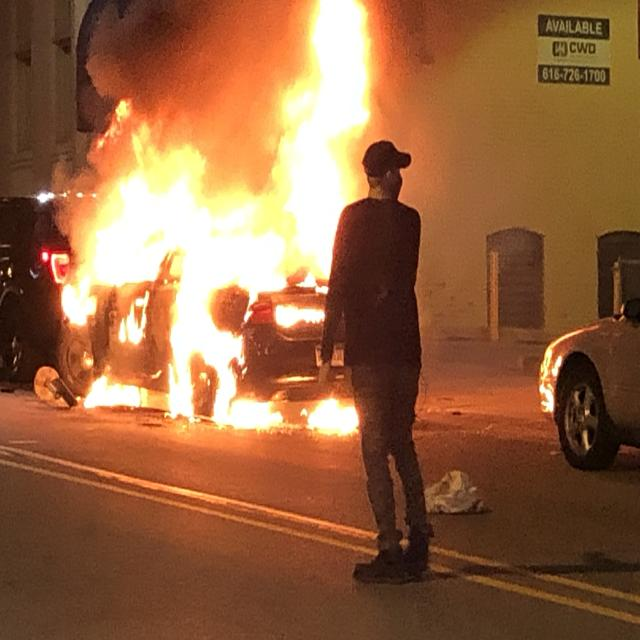fire: (62, 100, 275, 326), (78, 326, 286, 434), (274, 0, 369, 170), (301, 397, 358, 435)
